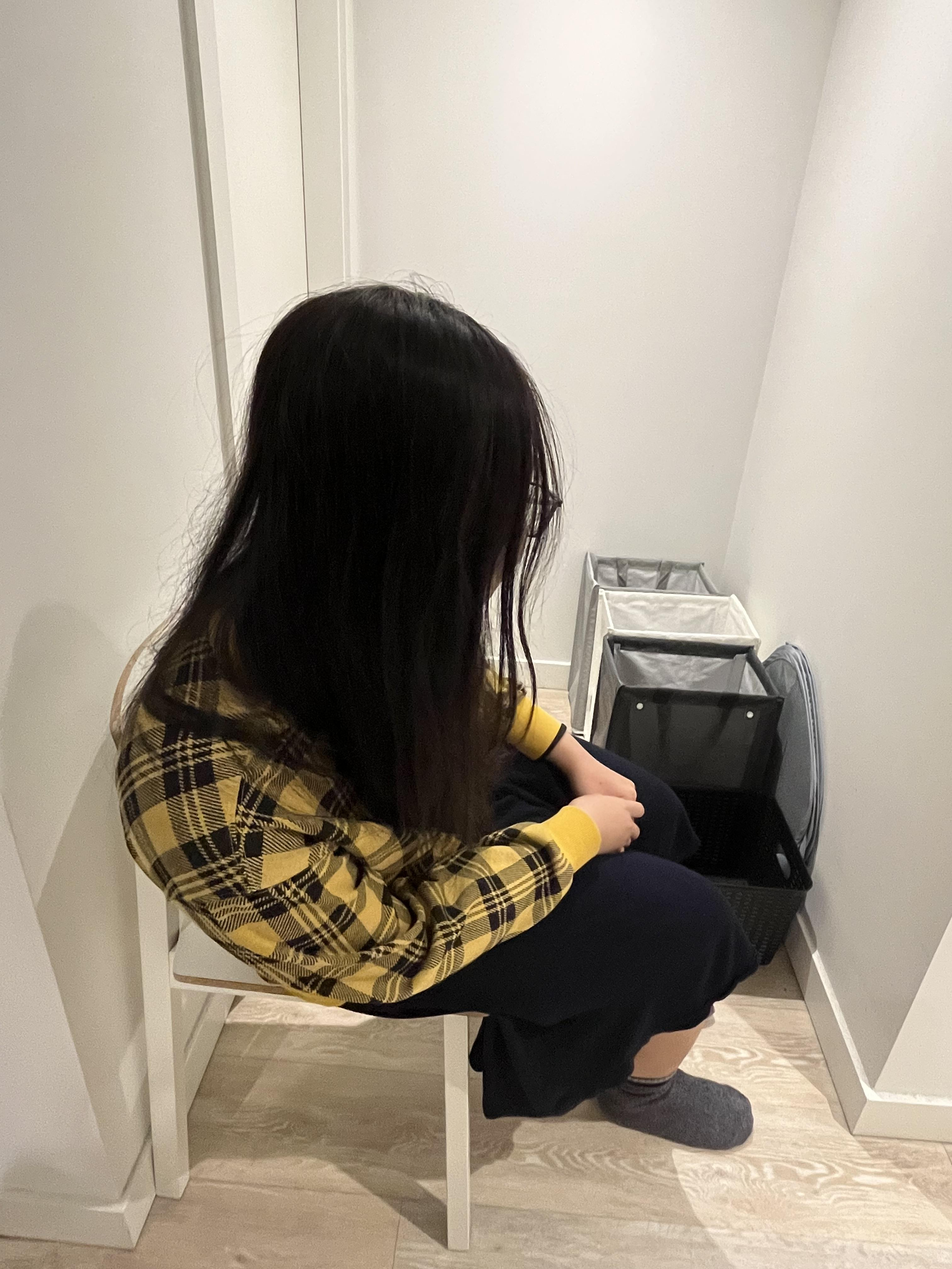BadPosture: (112, 280, 763, 1148)
